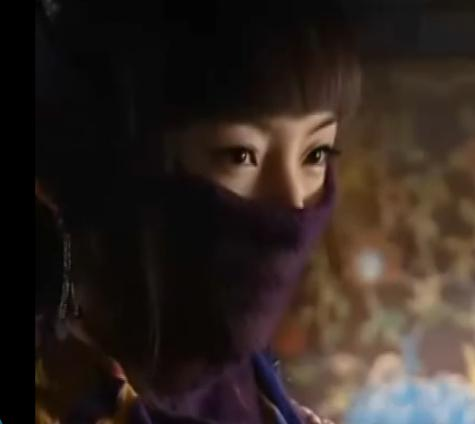OK: (119, 101, 344, 351)
